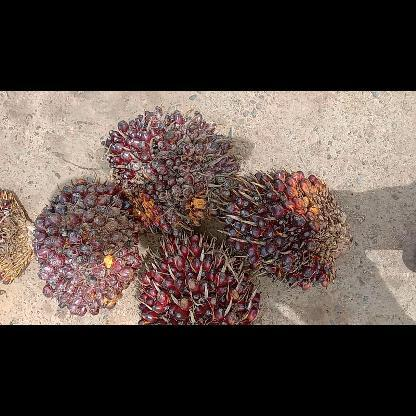Kurang masak: (100, 104, 242, 236), (136, 230, 262, 324)
TBS mentah: (216, 168, 350, 292), (31, 176, 141, 318)
